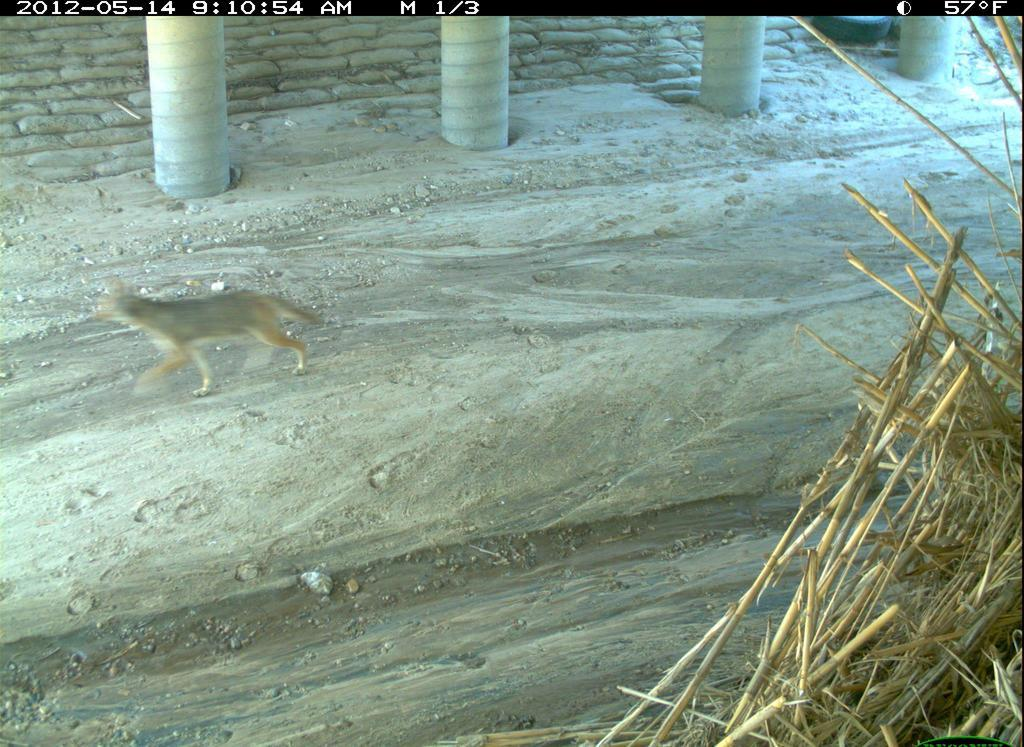coyote: (94, 274, 331, 402)
